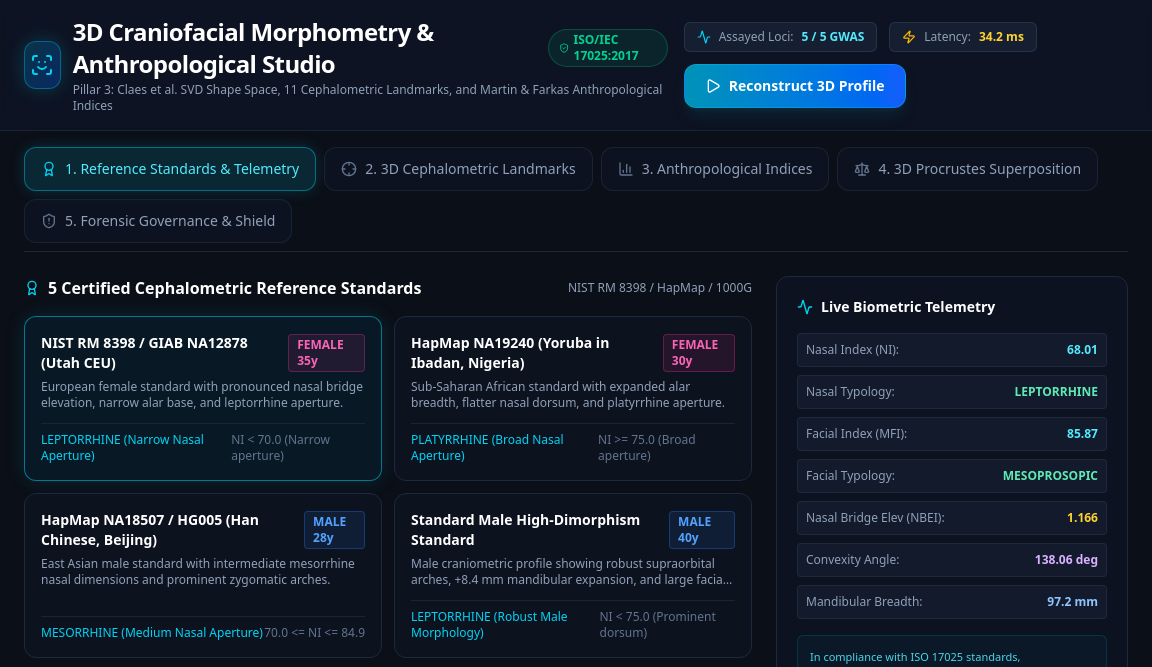
Scenario: Subsystem 16: 3D Craniofacial Morphology Studio & Cephalometric Superposition › toggles SNP dosages in Tab 3 and updates active indices
Step 1. Click the button "3. Anthropological Indices" → click(715, 169), box [601,147,829,191]
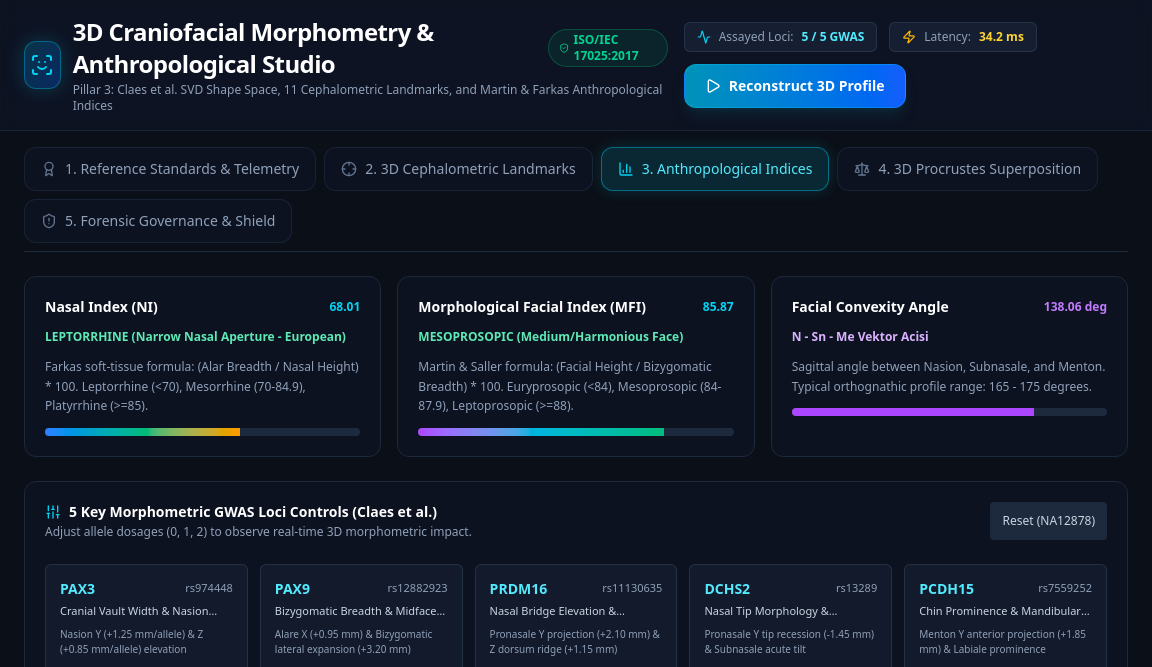
Result: the text "PRDM16" is shown at [490,578,547,598]
Result: the text "PAX3" is shown at [60,578,95,598]
Result: the text "DCHS2" is shown at [704,578,750,598]
